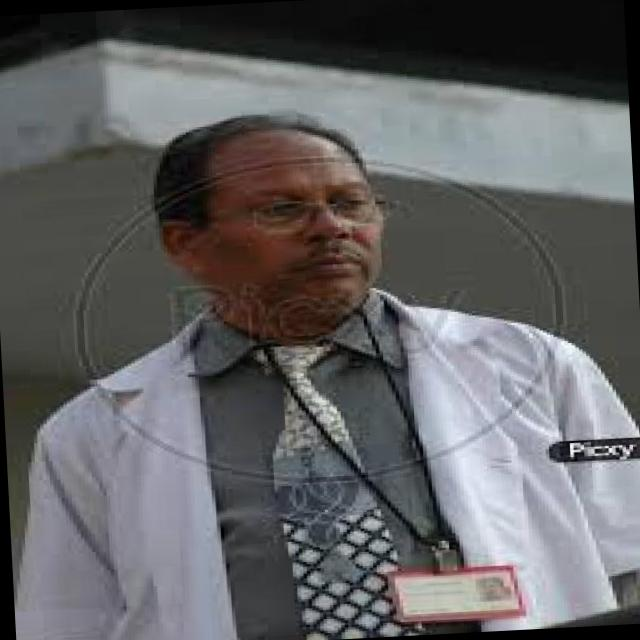id_card: (280, 301, 530, 640)
